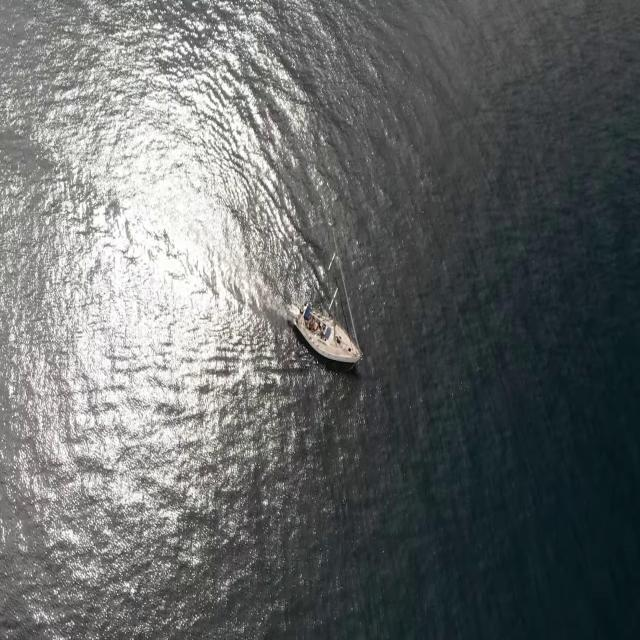sailboat: (292, 288, 363, 369)
